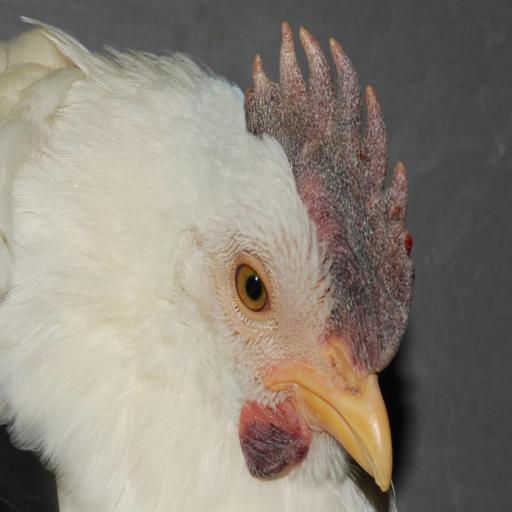disease: (302, 30, 422, 358), (239, 409, 309, 492)
